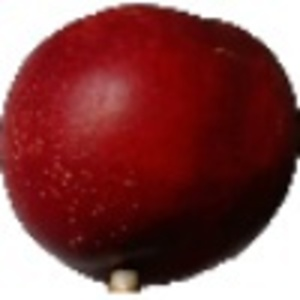nectarina: (1, 1, 300, 296)
